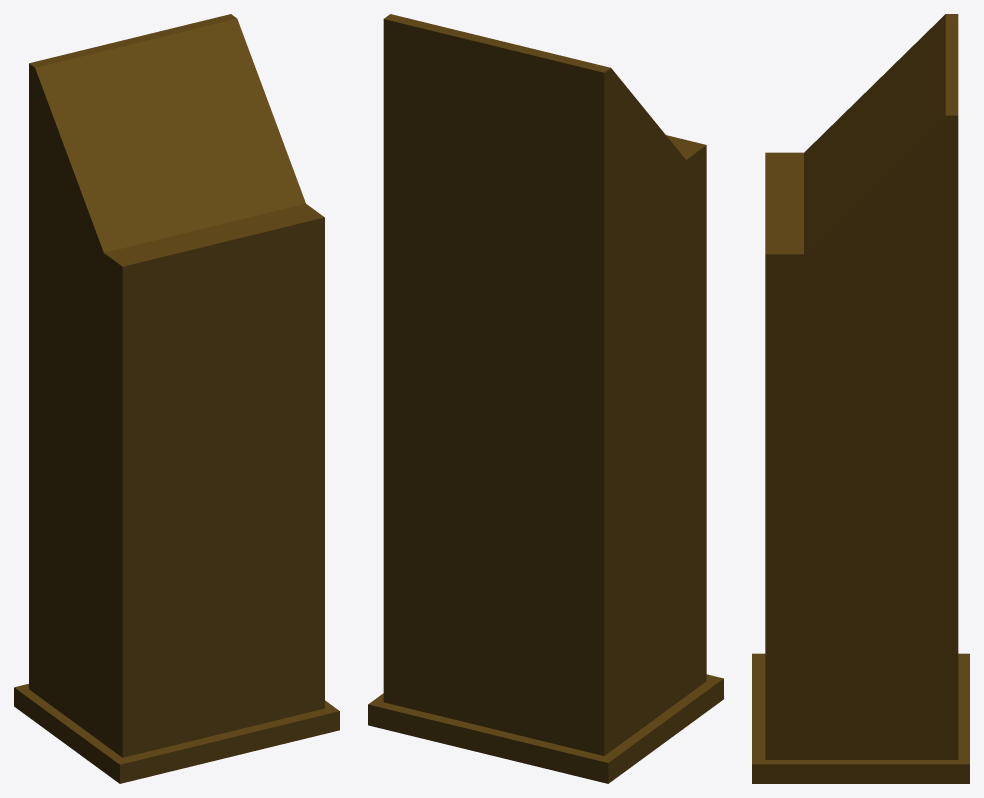
Rendered from uploads_files_2108086_01_podium.fbx.
The picture shows the model from 3 angles, left to right: view 1: azimuth 30°, elevation 25°; view 2: azimuth 150°, elevation 25°; view 3: azimuth 270°, elevation 25°; orthographic projection. The views are drawn at different scales.
Parts seen in each view (by area): view 1: Pult_lo; view 2: Pult_lo; view 3: Pult_lo.
Part boxes in pixels (bbox=[...]): Pult_lo: bbox=[14, 14, 339, 783]; Pult_lo: bbox=[368, 14, 723, 783]; Pult_lo: bbox=[752, 14, 969, 783].
Bounding box in the file's own units: 0.6 × 1.68 × 0.5.
